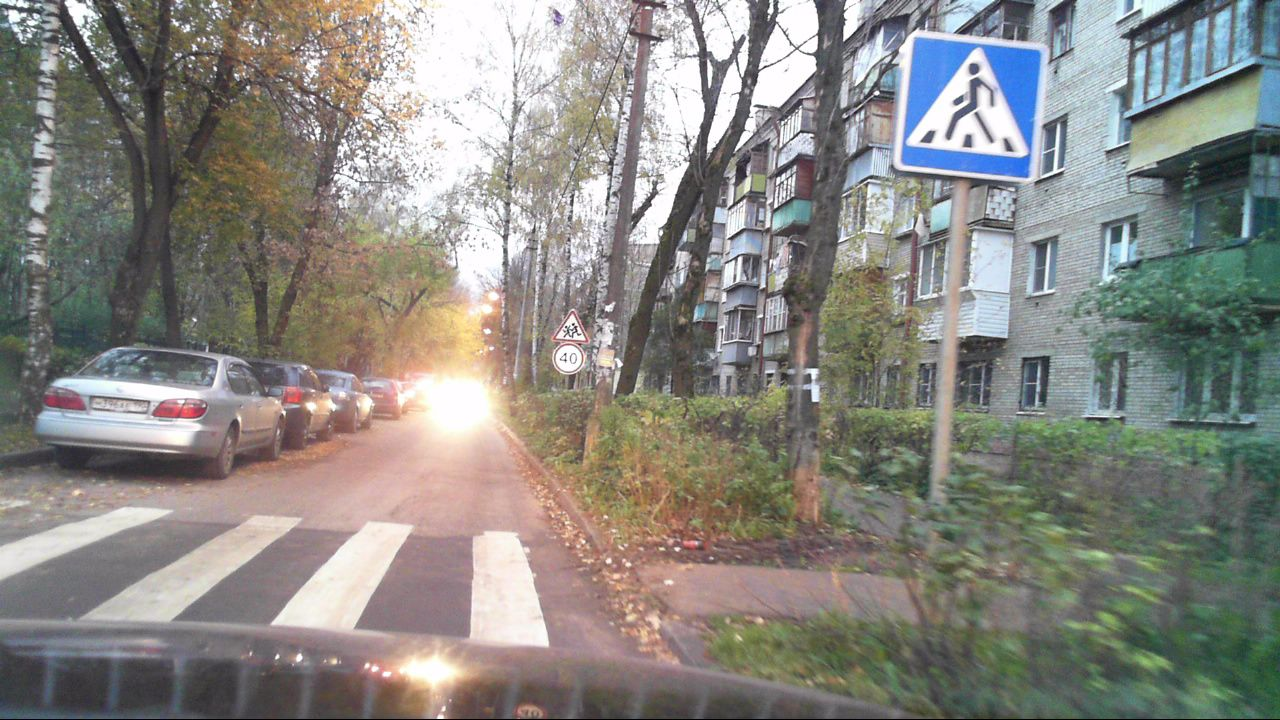speed_warning_40: (550, 344, 581, 375)
